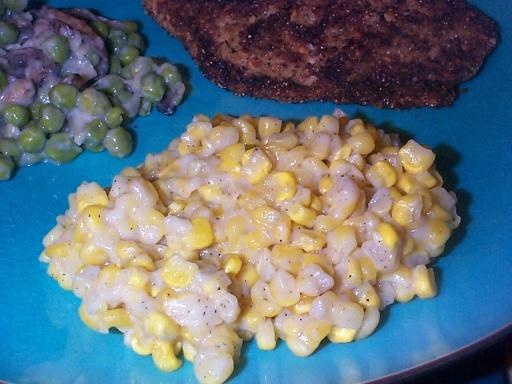background: (30, 64, 368, 230), (112, 0, 400, 66), (0, 0, 147, 108)
